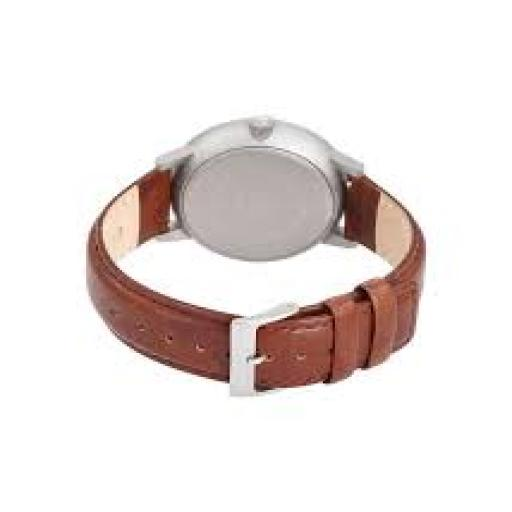KolSaati: (51, 58, 464, 478)
